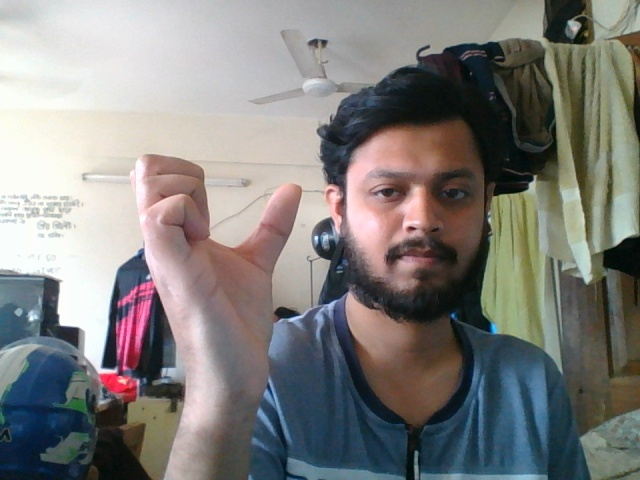kha: (118, 145, 308, 402)
